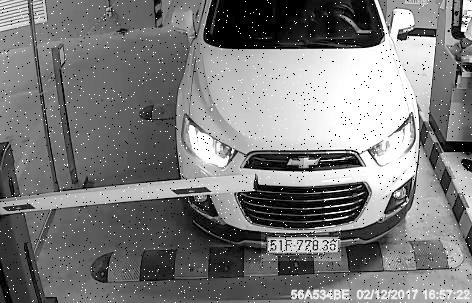License-plate: (262, 232, 342, 262)
